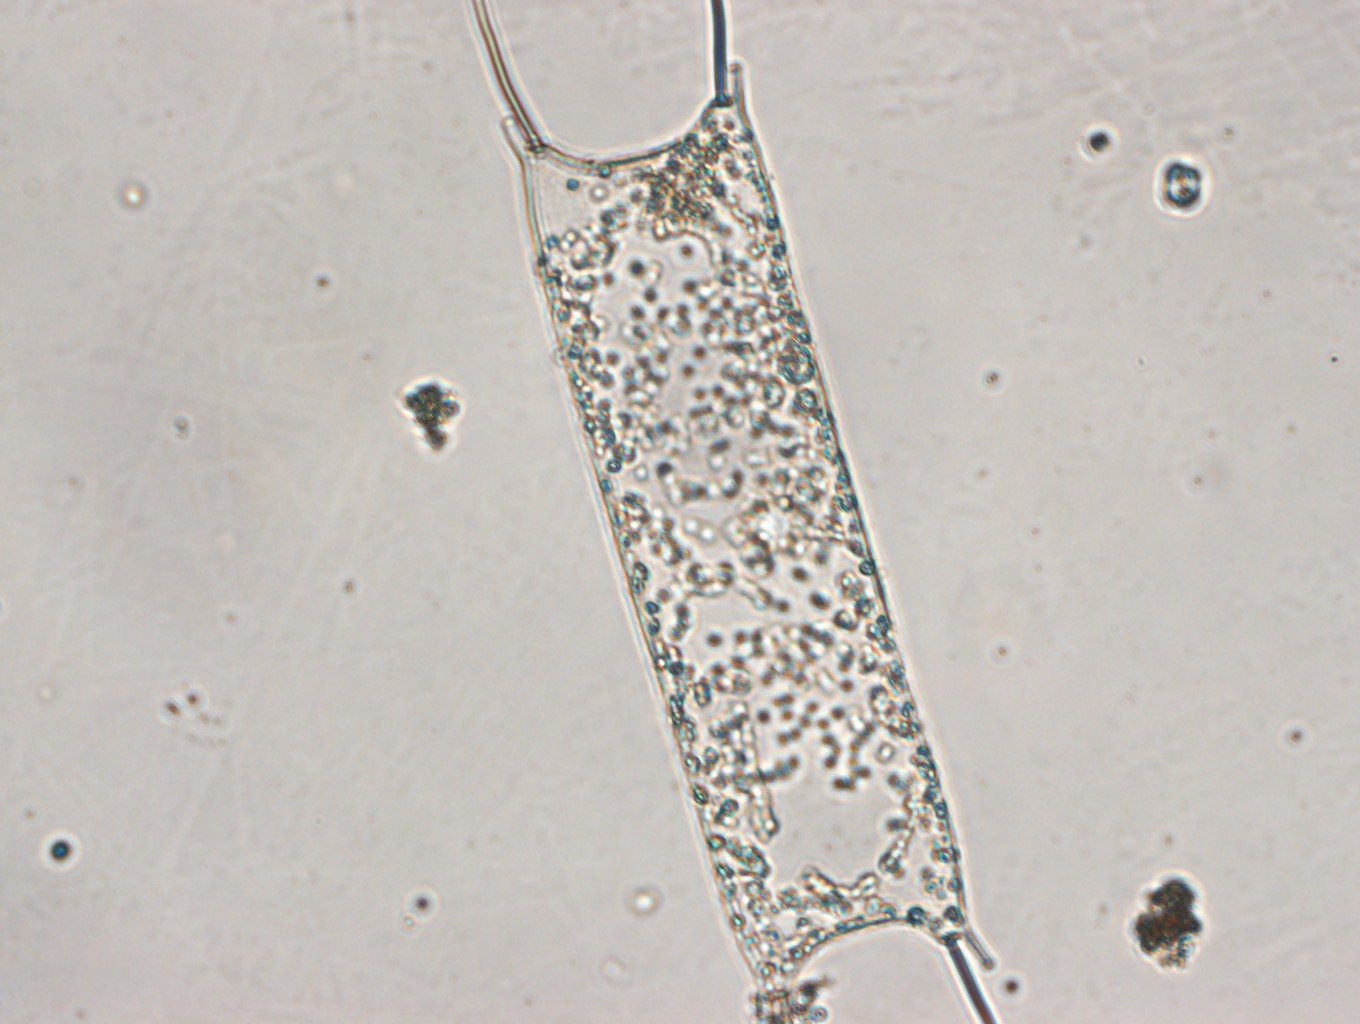biddulphia: (470, 1, 1006, 1024)
